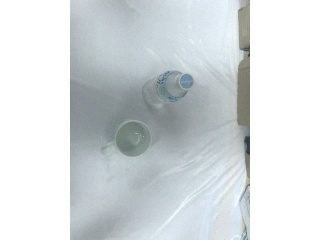bottle: (142, 70, 194, 109)
cup: (100, 119, 151, 157)
